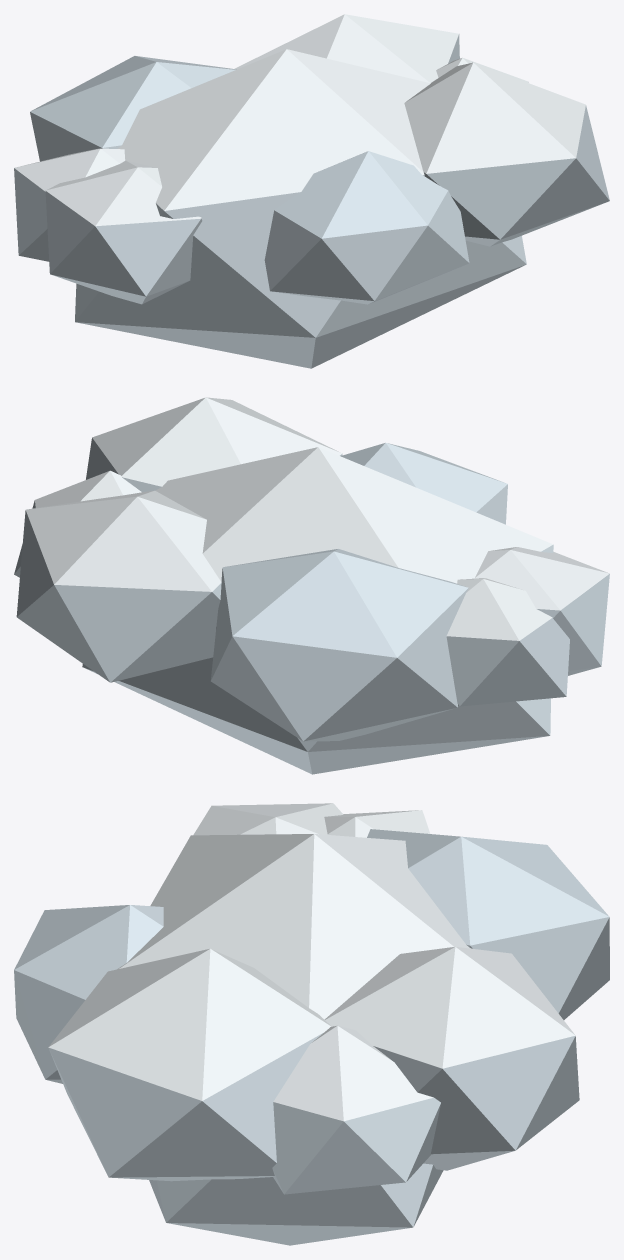
The model's file is snowbank_large.glb.
3 renders of one model, top to bottom at view 1: azimuth 30°, elevation 25°; view 2: azimuth 150°, elevation 25°; view 3: azimuth 270°, elevation 25°, orthographic. The views are drawn at different scales.
Visible parts, largest first — view 1: snowbank_large; view 2: snowbank_large; view 3: snowbank_large.
Part boxes in pixels (x1,y1,x2,y2): snowbank_large: [14, 14, 609, 368]; snowbank_large: [14, 397, 609, 774]; snowbank_large: [14, 803, 609, 1245].
Bounding box in the file's own units: 2.39 × 1.43 × 1.92.
